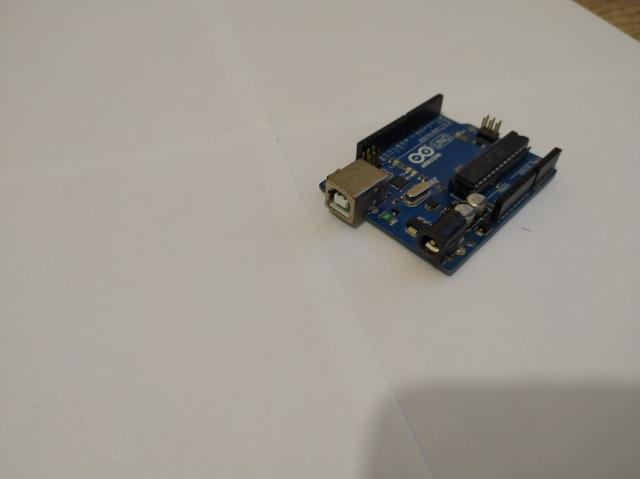arduino: (318, 94, 562, 272)
